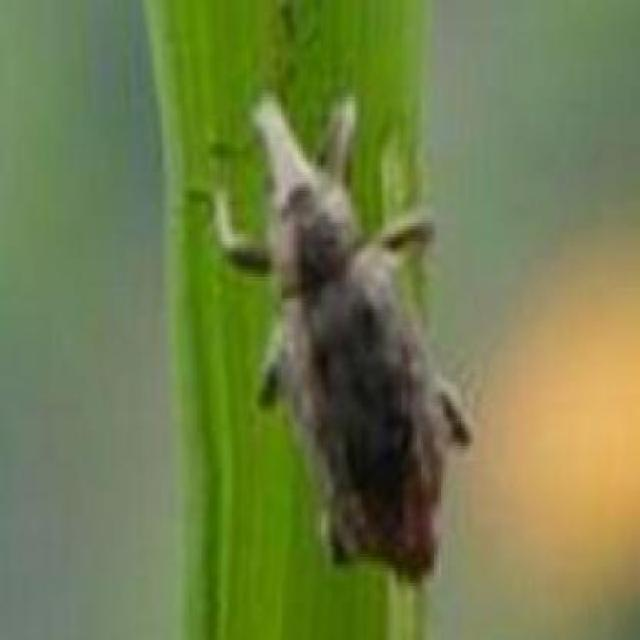rice-bug: (225, 78, 473, 578)
